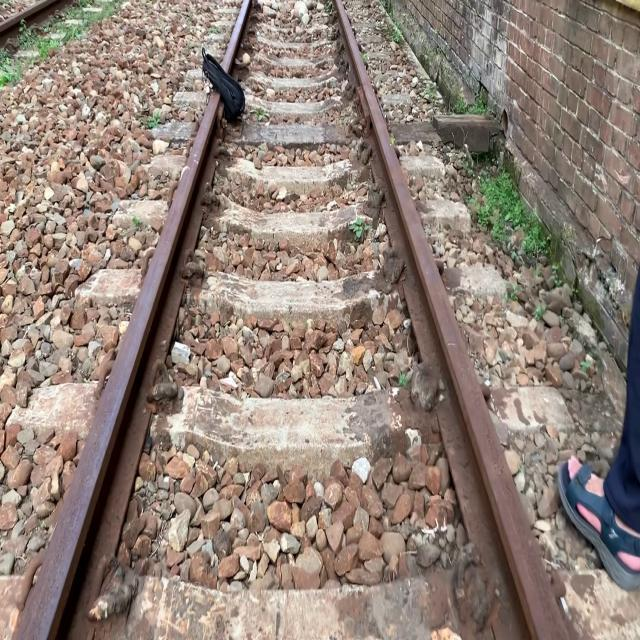rail: (1, 1, 612, 640)
